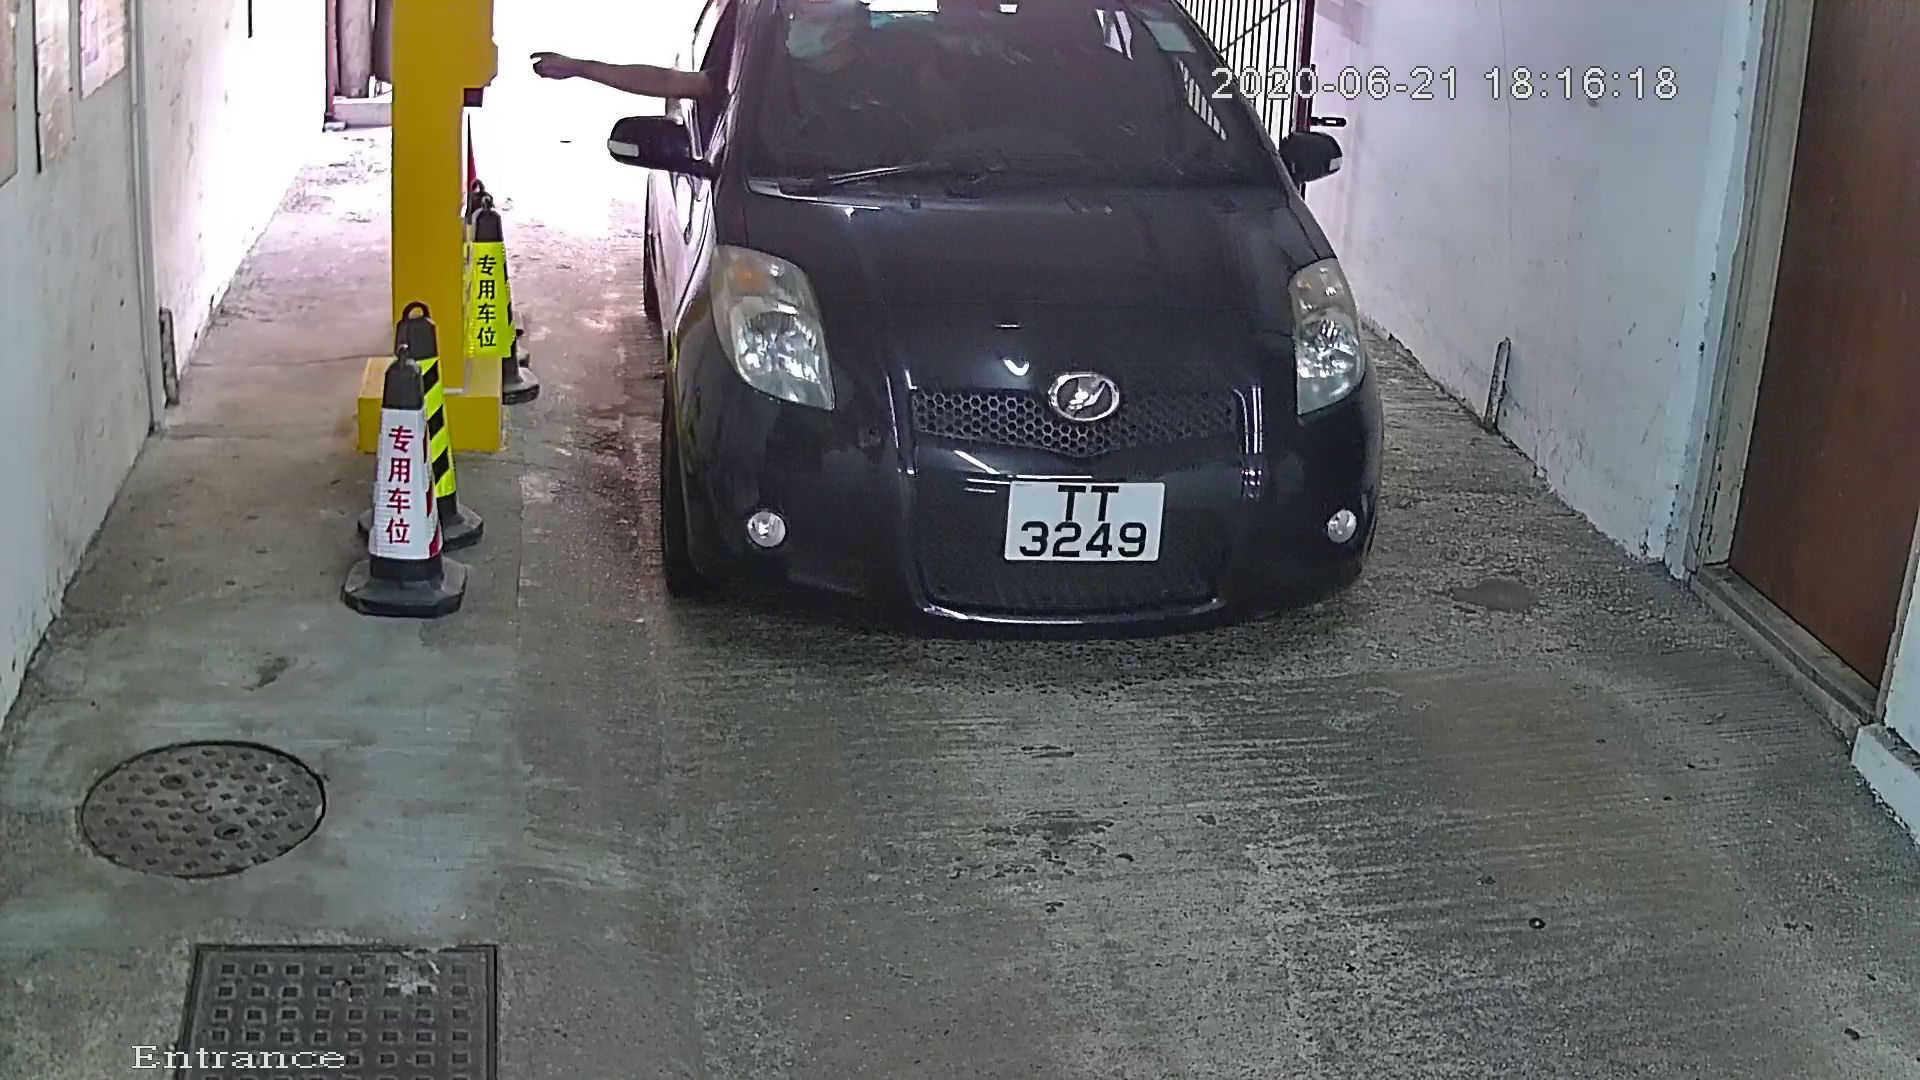privatecar: (572, 1, 1476, 692)
